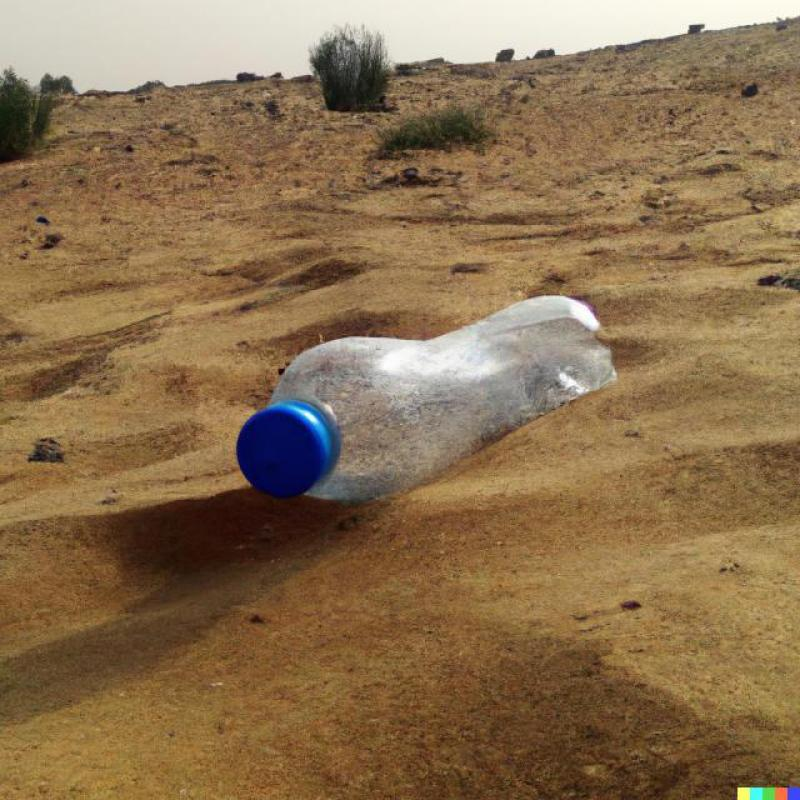botella: (232, 290, 622, 504)
